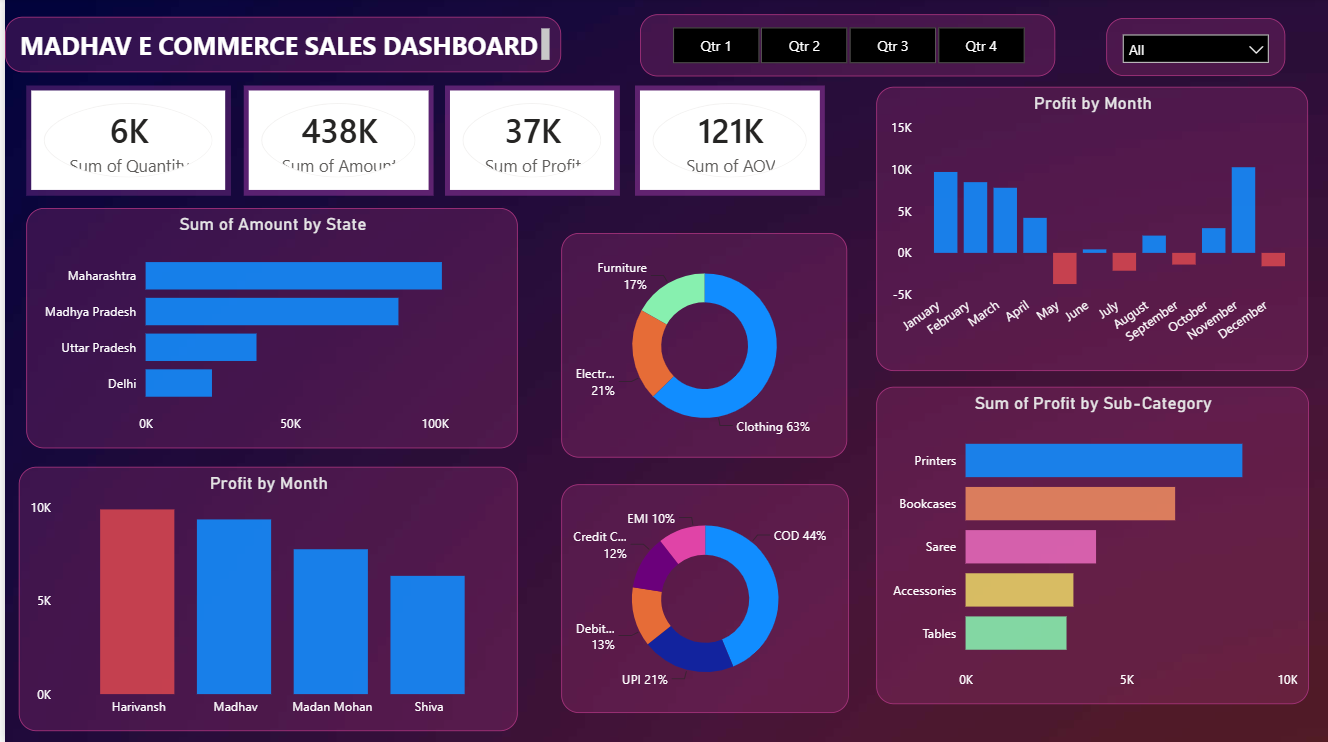

This screenshot's page, from the dashboard's own definition file:
{"tool":"powerbi","page":{"name":"Page 1","canvas":[1280,720],"ordinal":0},"visuals":[{"type":"textbox","box":[0,17.8,536.5,53.5],"z":0},{"type":"columnChart","title":"Profit by Month","fields":{"Category":["Orders.Order Date.Variation.Date Hierarchy.Month"],"Y":["Sum(Details.Profit)"]},"box":[841.2,85.1,417.2,274.4],"z":1000},{"type":"barChart","fields":{"Category":["Details.Sub-Category"],"Y":["Sum(Details.Profit)"]},"box":[840.9,375.2,417.4,306.4],"z":2000},{"type":"donutChart","fields":{"Category":["Details.Category"],"Y":["Sum(Details.Quantity)"]},"box":[536.9,226.8,276.3,217.2],"z":3000},{"type":"donutChart","fields":{"Category":["Details.PaymentMode"],"Y":["Sum(Details.Quantity)"]},"box":[536.9,469.3,277.5,220.8],"z":4000},{"type":"cardVisual","fields":{"Data":["Sum(Details.Amount)"]},"box":[230.4,84.5,183.4,106.2],"z":5000},{"type":"cardVisual","fields":{"Data":["Sum(Details.Quantity)"]},"box":[20,84.5,197.9,106],"z":6000},{"type":"cardVisual","fields":{"Data":["Sum(Details.Profit)"]},"box":[424.7,84.5,168.9,106.2],"z":7000},{"type":"cardVisual","fields":{"Data":["Sum(Details.AOV)"]},"box":[608,84.5,183.4,106.2],"z":8000},{"type":"barChart","fields":{"Category":["Orders.State"],"Y":["Sum(Details.Amount)"]},"box":[20.6,203.1,474.8,231.9],"z":9000},{"type":"columnChart","title":"Profit by Month","fields":{"Category":["Orders.CustomerName"],"Y":["Sum(Details.Amount)"]},"box":[13.7,452.8,481.6,255.2],"z":10000},{"type":"slicer","fields":{"Values":["Orders.Order Date.Variation.Date Hierarchy.Quarter"]},"box":[613.4,15.1,400.7,60.4],"z":10001},{"type":"slicer","fields":{"Values":["Orders.State"]},"box":[1063.5,19.2,172.9,56.3],"z":10002}]}

Visuals, with their boxes in screenshot pixels (x1, y1, x2, y2), scaled from the page's 1280x720 canvas onto the 1328x742 screenshot:
textbox: x1=0, y1=18, x2=557, y2=73
"Profit by Month" columnChart: x1=873, y1=88, x2=1306, y2=370
barChart - Details.Sub-Category x Sum(Details.Profit): x1=872, y1=387, x2=1305, y2=702
donutChart - Details.Category x Sum(Details.Quantity): x1=557, y1=234, x2=844, y2=458
donutChart - Details.PaymentMode x Sum(Details.Quantity): x1=557, y1=484, x2=845, y2=711
cardVisual - Sum(Details.Amount): x1=239, y1=87, x2=429, y2=197
cardVisual - Sum(Details.Quantity): x1=21, y1=87, x2=226, y2=196
cardVisual - Sum(Details.Profit): x1=441, y1=87, x2=616, y2=197
cardVisual - Sum(Details.AOV): x1=631, y1=87, x2=821, y2=197
barChart - Orders.State x Sum(Details.Amount): x1=21, y1=209, x2=514, y2=448
"Profit by Month" columnChart: x1=14, y1=467, x2=514, y2=730
slicer - Orders.Order Date.Variation.Date Hierarchy.Quarter: x1=636, y1=16, x2=1052, y2=78
slicer - Orders.State: x1=1103, y1=20, x2=1283, y2=78
